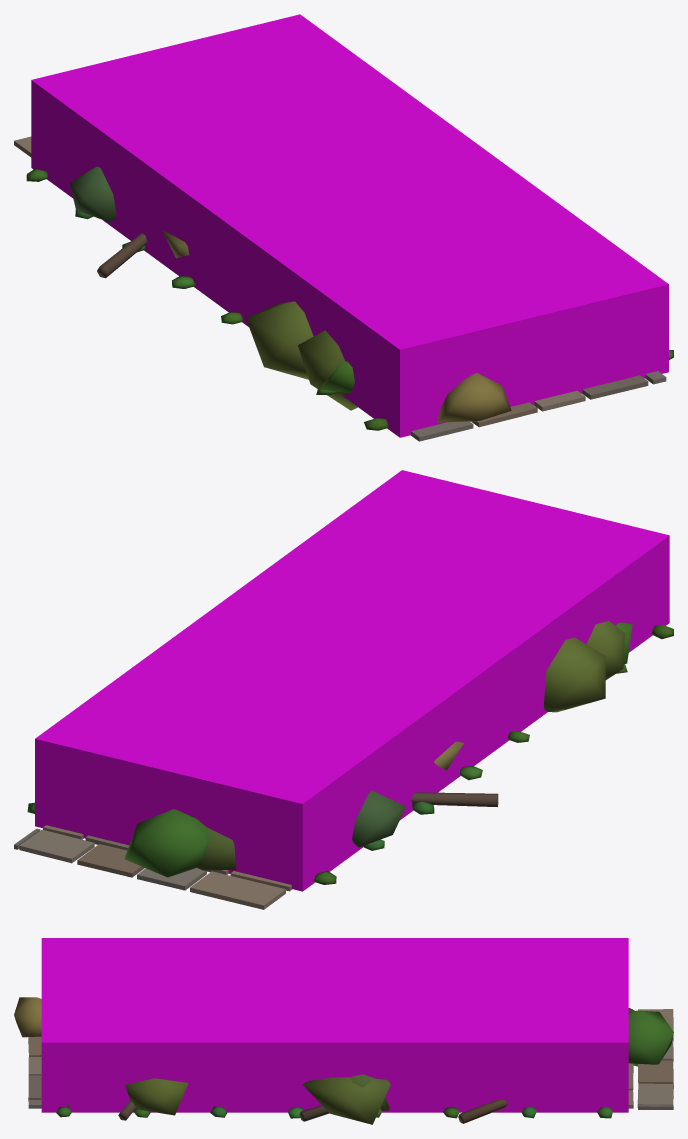
The model's file is ENV_Path_Old_A.glb.
3 renders of one model, top to bottom at view 1: azimuth 30°, elevation 25°; view 2: azimuth 150°, elevation 25°; view 3: azimuth 270°, elevation 25°, orthographic. The views are drawn at different scales.
Visible parts, largest first — view 1: COL_Overgrowth, STATE_overgrown, ENV_Path_Old_A_Mesh, STATE_cleared; view 2: COL_Overgrowth, STATE_overgrown, ENV_Path_Old_A_Mesh, STATE_cleared; view 3: COL_Overgrowth, STATE_overgrown, ENV_Path_Old_A_Mesh, STATE_cleared.
Boxes of the visible parts, x1=… form: COL_Overgrowth: x1=31, y1=14, x2=668, y2=437; STATE_overgrown: x1=70, y1=166, x2=511, y2=422; ENV_Path_Old_A_Mesh: x1=14, y1=136, x2=666, y2=441; STATE_cleared: x1=26, y1=168, x2=673, y2=430; COL_Overgrowth: x1=35, y1=470, x2=669, y2=891; STATE_overgrown: x1=124, y1=620, x2=632, y2=877; ENV_Path_Old_A_Mesh: x1=14, y1=825, x2=292, y2=909; STATE_cleared: x1=27, y1=625, x2=673, y2=884; COL_Overgrowth: x1=41, y1=938, x2=628, y2=1112; STATE_overgrown: x1=14, y1=997, x2=673, y2=1124; ENV_Path_Old_A_Mesh: x1=28, y1=1009, x2=673, y2=1109; STATE_cleared: x1=56, y1=1106, x2=612, y2=1118.
Size of the model in its own units: 4.45 by 1.31 by 8.55.
